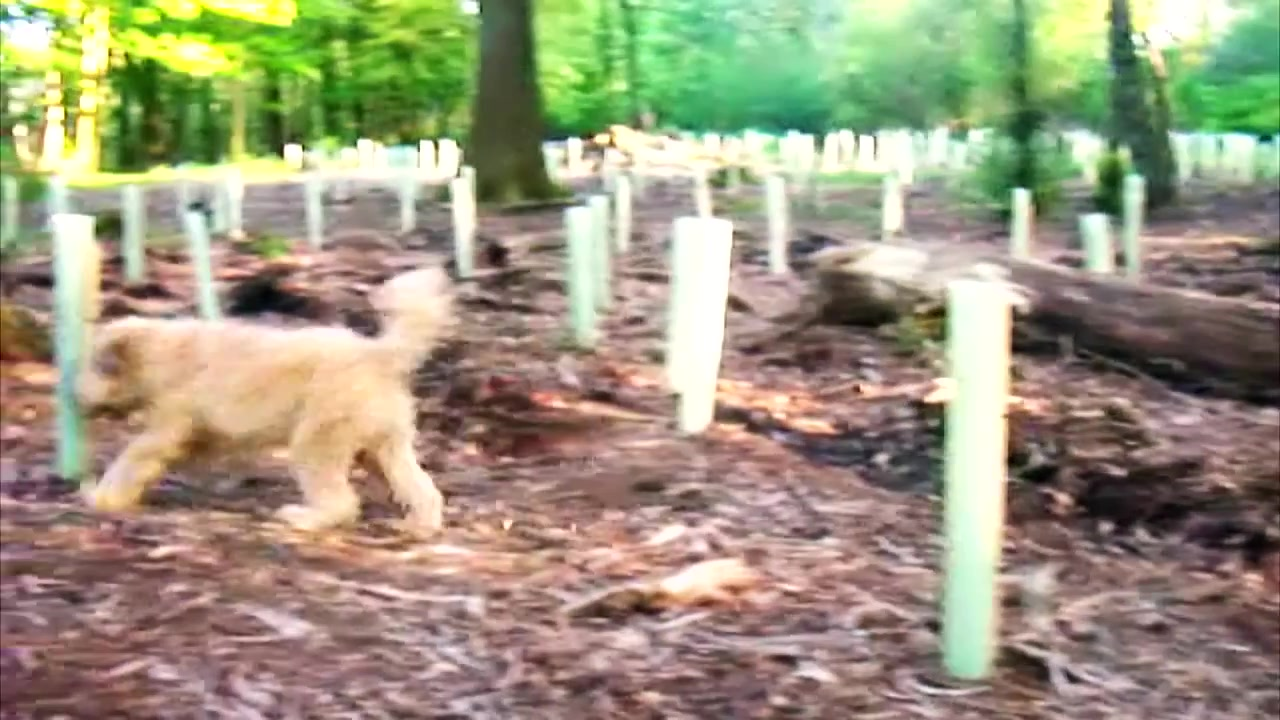dog: (73, 268, 464, 544)
